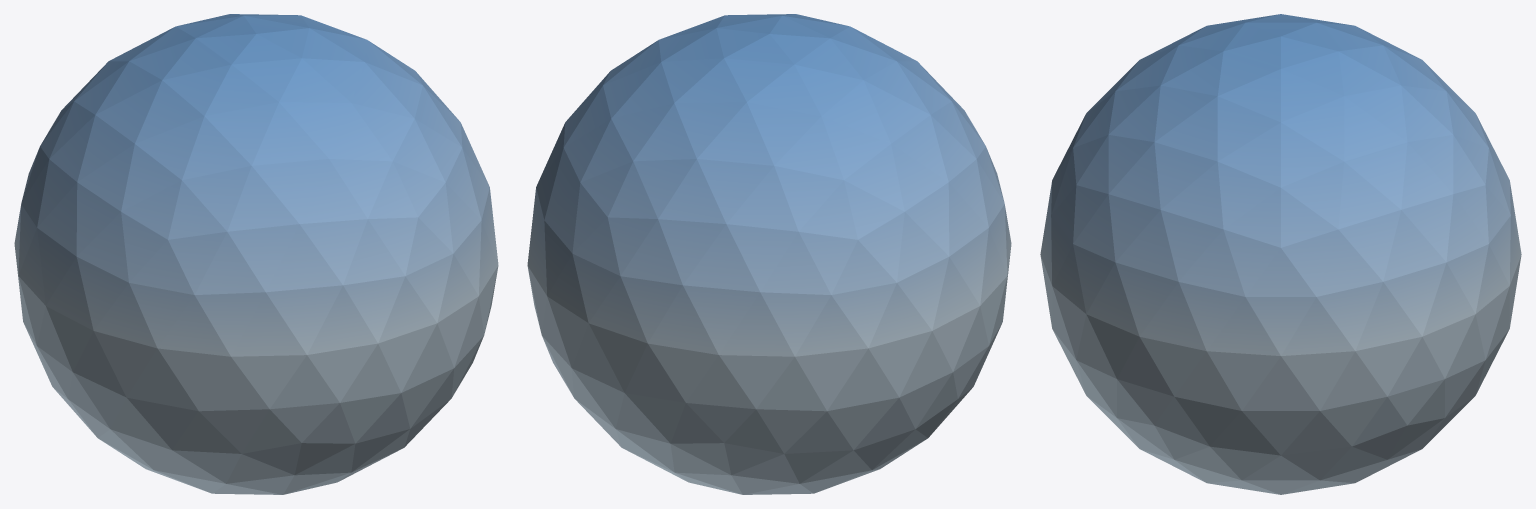
The model's file is sky.glb.
3 views of the same model, side by side, from view 1: azimuth 30°, elevation 25°; view 2: azimuth 150°, elevation 25°; view 3: azimuth 270°, elevation 25° (orthographic).
Visible parts, largest first — view 1: sky_dome; view 2: sky_dome; view 3: sky_dome.
Boxes of the visible parts, x1,y1,x2,y2 form: sky_dome: (14, 14, 498, 494); sky_dome: (527, 14, 1011, 494); sky_dome: (1040, 14, 1521, 494).
Size of the model in its own units: 860 by 860 by 860.
